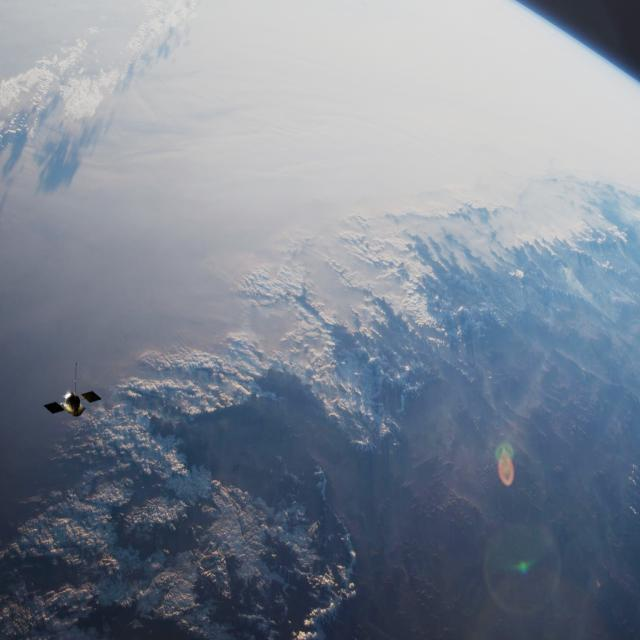satellite: (37, 375, 112, 426)
